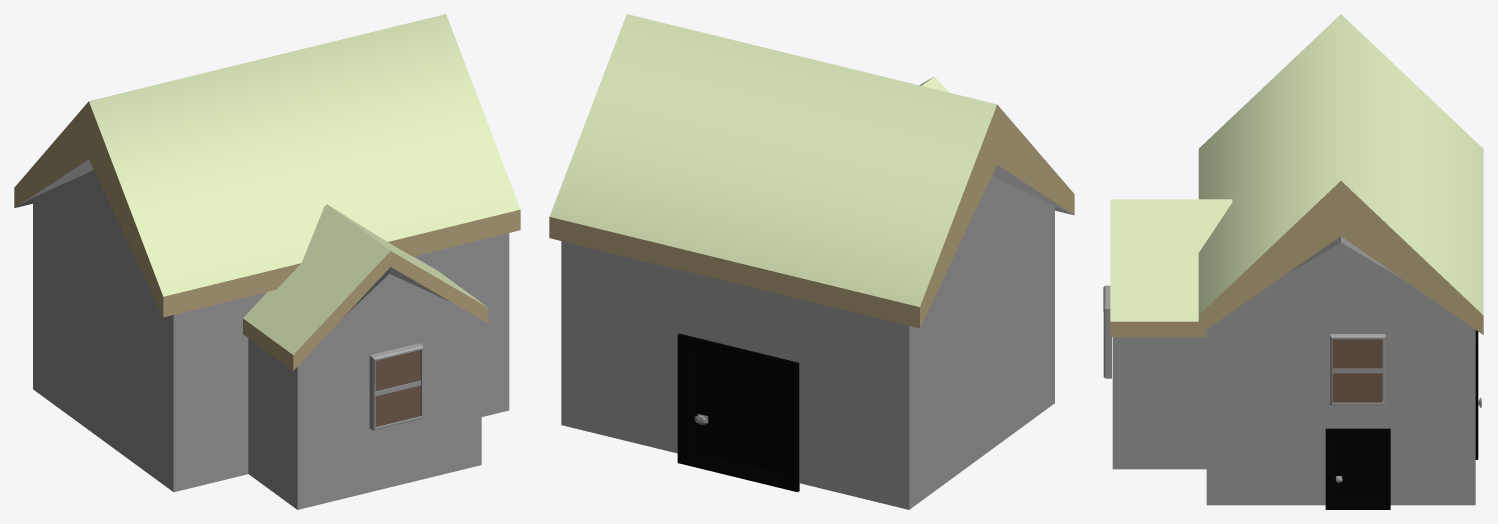
Rendered from House3.fbx.
3 views of the same model, side by side, from view 1: azimuth 30°, elevation 25°; view 2: azimuth 150°, elevation 25°; view 3: azimuth 270°, elevation 25° (orthographic). The views are drawn at different scales.
Visible parts, largest first — view 1: pCube249, pCube250, polySurface598; view 2: pCube249, pSphere33; view 3: pCube249, pCube250, pSphere32, polySurface599, polySurface598, pSphere33.
Part boxes in pixels (x1,y1,x2,y2): pCube249: (14,14,520,492); pCube250: (243,204,488,509); polySurface598: (369,343,422,430); pCube249: (549,14,1074,509); pSphere33: (677,333,799,492); pCube249: (1198,14,1483,505); pCube250: (1110,199,1232,469); pSphere32: (1325,428,1390,509); polySurface599: (1330,334,1385,405); polySurface598: (1103,285,1111,378); pSphere33: (1475,330,1481,459).
Size of the model in its own units: 141 by 133 by 136.
